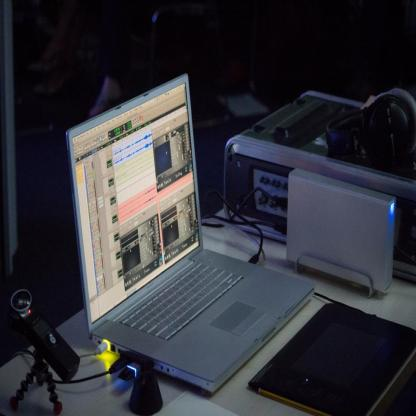board: (65, 73, 314, 392)
